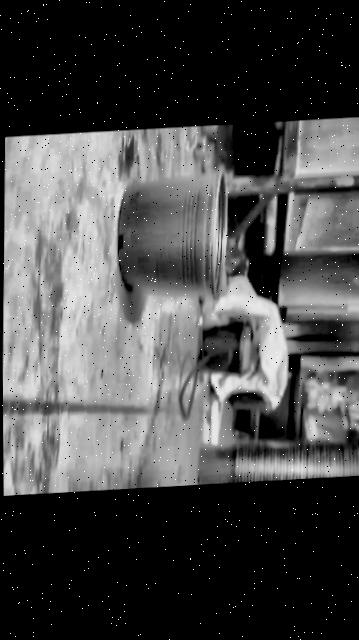pot: (114, 166, 228, 307), (198, 319, 249, 378)
